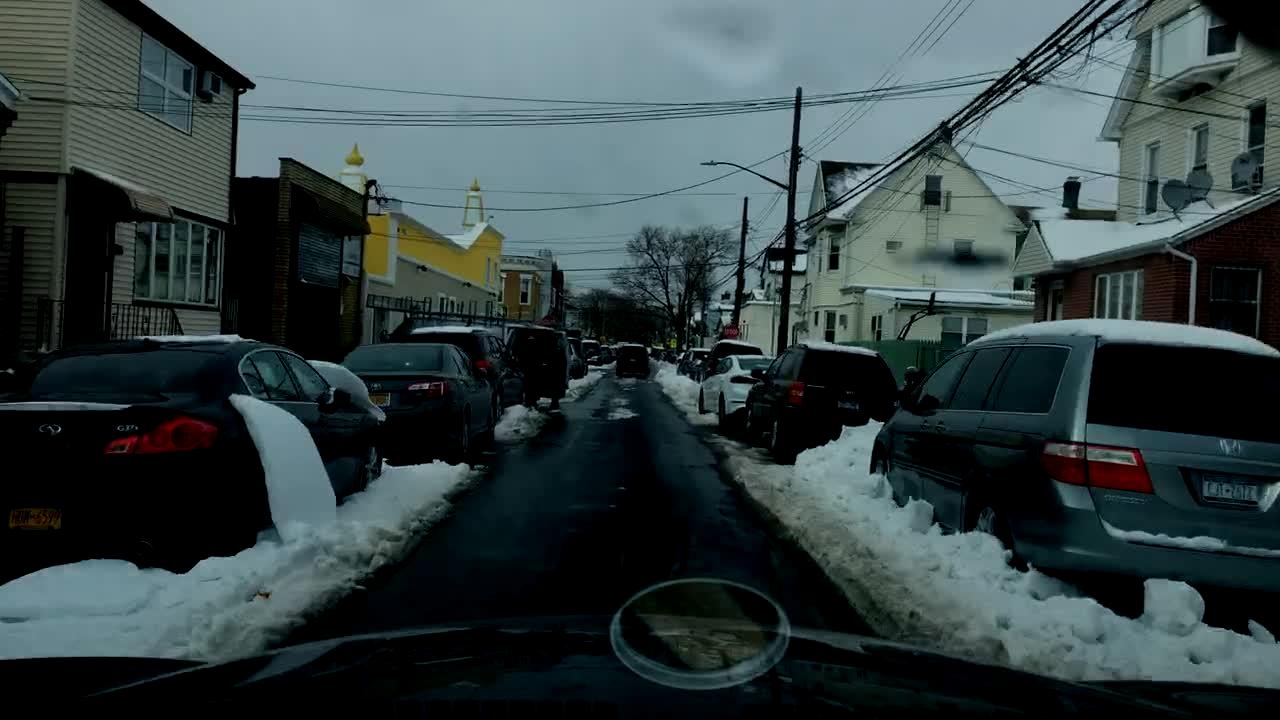Infiniti: (36, 421, 64, 441)
